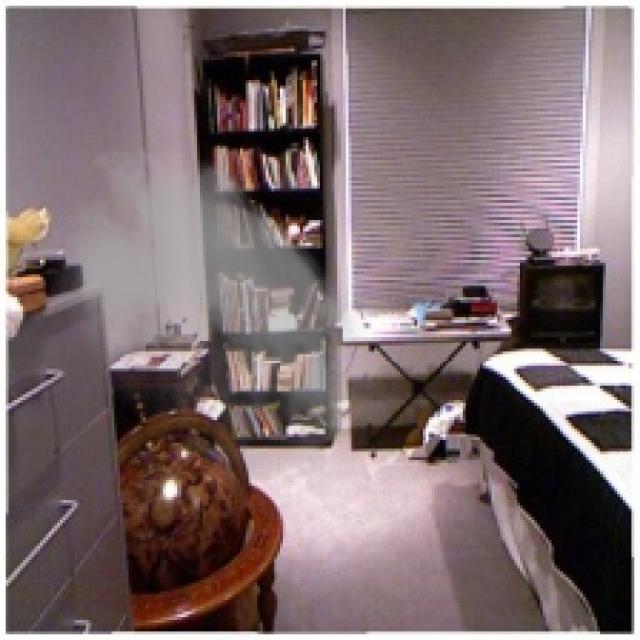smoke: (37, 134, 397, 520)
